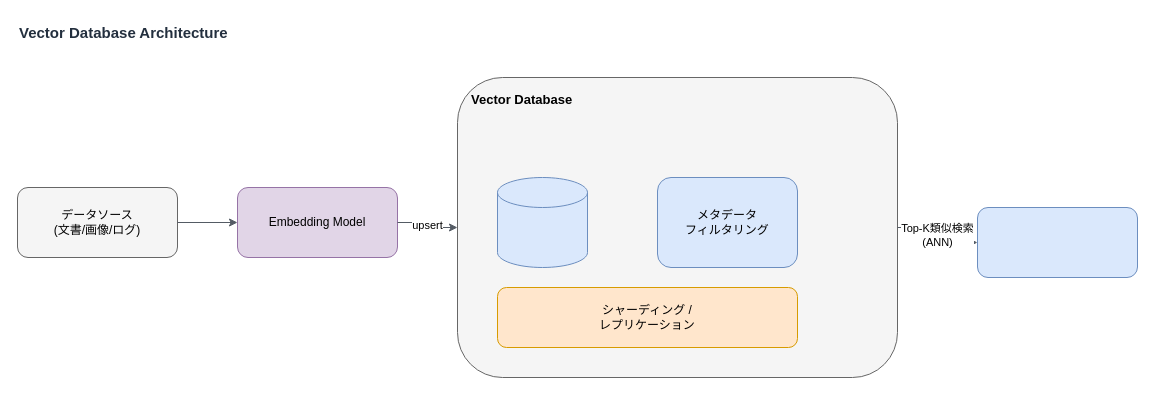
The diagram is 1155 pixels wide and 395 high, and some of its shapes have lost their labels. Each missing label, with the centre of its shape:
ANNインデックス (HNSW/IVF): the point at 542,222
検索アプリケーション (類似検索/RAG): the point at 1057,242
